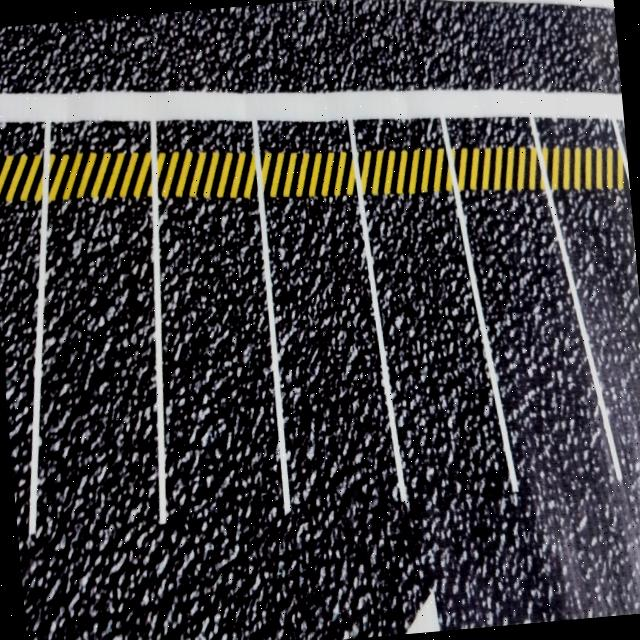slots: (364, 191, 509, 544), (461, 190, 606, 496), (266, 196, 396, 513), (38, 199, 156, 548), (160, 199, 280, 518)
